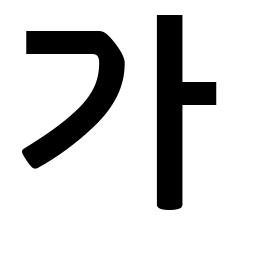Gaji: (145, 68, 203, 123)
